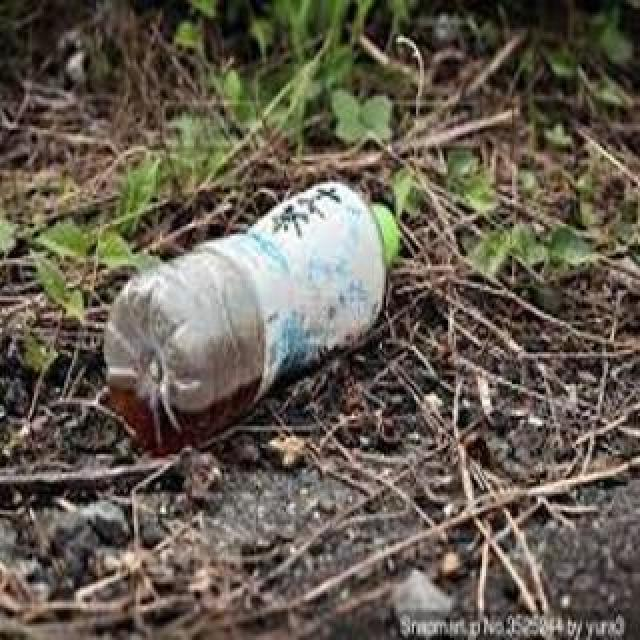Pet_Bottle: (100, 175, 404, 453)
